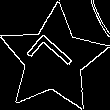L_SE: (25, 31, 82, 87)
